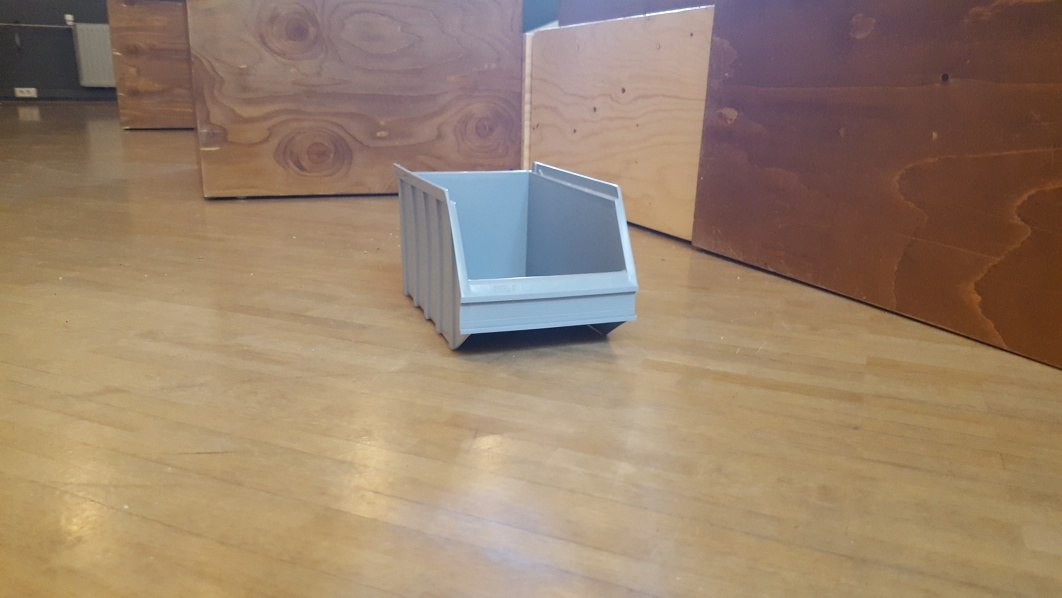tray: (392, 161, 640, 351)
